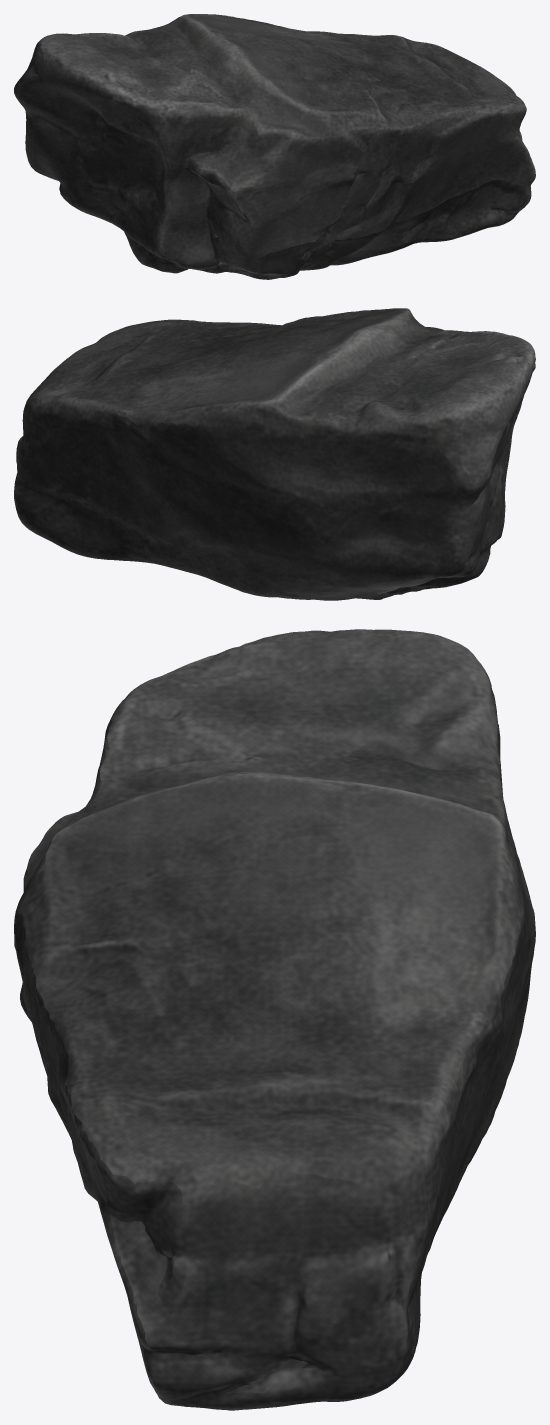
3 views of the same model, one above another, from view 1: azimuth 30°, elevation 25°; view 2: azimuth 150°, elevation 25°; view 3: azimuth 270°, elevation 25° (orthographic). The views are drawn at different scales.
Visible parts, largest first — view 1: world; view 2: world; view 3: world.
Boxes of the visible parts, box(x1,y1,x2,y2) form: world: box(14, 14, 535, 279); world: box(14, 308, 535, 600); world: box(14, 629, 535, 1410).
Size of the model in its own units: 4.5 by 2.26 by 2.52.
1 material, 1 textured.
